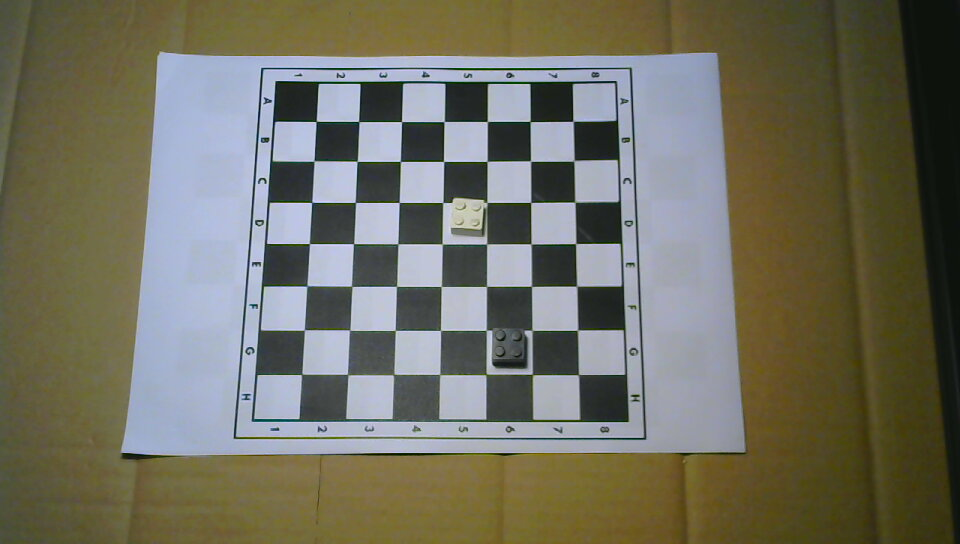bp: (489, 326, 528, 369)
wp: (449, 196, 486, 239)
